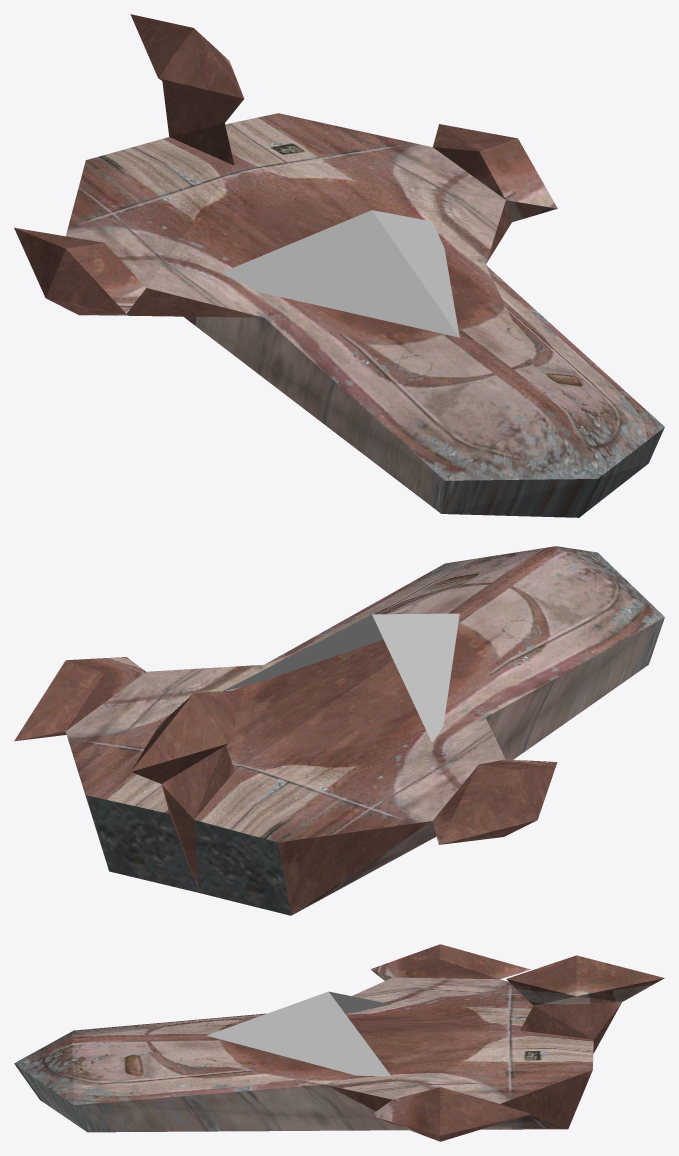
The model's file is landspeeder_luke_l3.fbx.
The picture shows the model from 3 angles, top to bottom: view 1: azimuth 30°, elevation 25°; view 2: azimuth 150°, elevation 25°; view 3: azimuth 270°, elevation 25°; orthographic projection. The views are drawn at different scales.
Visible parts, largest first — view 1: mesh_node; view 2: mesh_node; view 3: mesh_node.
Boxes of the visible parts, x1,y1,x2,y2 form: mesh_node: (14, 14, 664, 517); mesh_node: (14, 546, 664, 915); mesh_node: (14, 944, 664, 1141).
Size of the model in its own units: 3.47 by 1.4 by 5.71.
